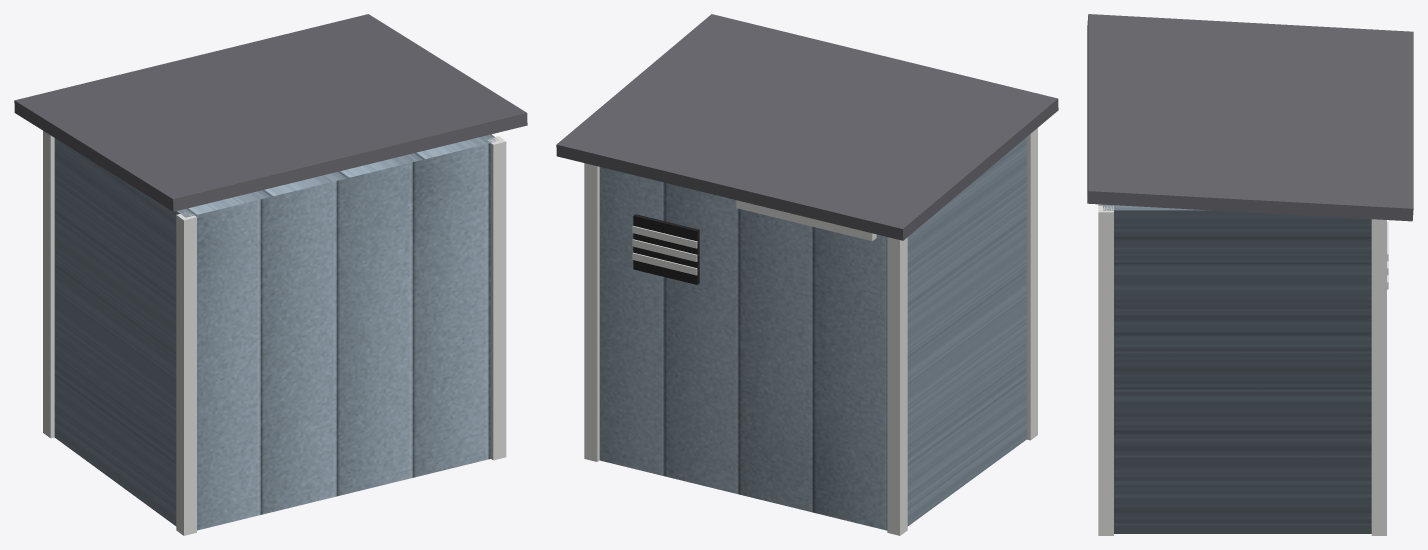
File: WK_ARCH_Shed.glb
3 views of the same model, side by side, from view 1: azimuth 30°, elevation 25°; view 2: azimuth 150°, elevation 25°; view 3: azimuth 270°, elevation 25° (orthographic). The views are drawn at different scales.
Visible parts, largest first — view 1: WK_ARCH_Shed_P01, WK_ARCH_Shed_P02, WK_ARCH_Shed_P09, WK_ARCH_Shed_P11, WK_ARCH_Shed_P10; view 2: WK_ARCH_Shed_P01, WK_ARCH_Shed_P02, WK_ARCH_Shed_P10, WK_ARCH_Shed_P12, WK_ARCH_Shed_P09, WK_ARCH_Shed_P05, WK_ARCH_Shed_P04; view 3: WK_ARCH_Shed_P01, WK_ARCH_Shed_P02, WK_ARCH_Shed_P11, WK_ARCH_Shed_P12.
Boxes of the visible parts, x1,y1,x2,y2 form: WK_ARCH_Shed_P01: [54, 134, 497, 530]; WK_ARCH_Shed_P02: [14, 14, 527, 211]; WK_ARCH_Shed_P09: [176, 213, 196, 535]; WK_ARCH_Shed_P11: [486, 136, 506, 460]; WK_ARCH_Shed_P10: [43, 131, 54, 438]; WK_ARCH_Shed_P01: [599, 137, 1026, 530]; WK_ARCH_Shed_P02: [556, 14, 1058, 240]; WK_ARCH_Shed_P10: [887, 237, 907, 535]; WK_ARCH_Shed_P12: [584, 163, 599, 461]; WK_ARCH_Shed_P09: [1026, 128, 1037, 440]; WK_ARCH_Shed_P05: [633, 214, 699, 284]; WK_ARCH_Shed_P04: [736, 200, 876, 240]; WK_ARCH_Shed_P01: [1103, 204, 1371, 533]; WK_ARCH_Shed_P02: [1087, 14, 1413, 221]; WK_ARCH_Shed_P11: [1098, 206, 1113, 535]; WK_ARCH_Shed_P12: [1371, 219, 1386, 535].
Size of the model in its own units: 2.7 by 2.51 by 2.1.
4 materials, 1 textured.
